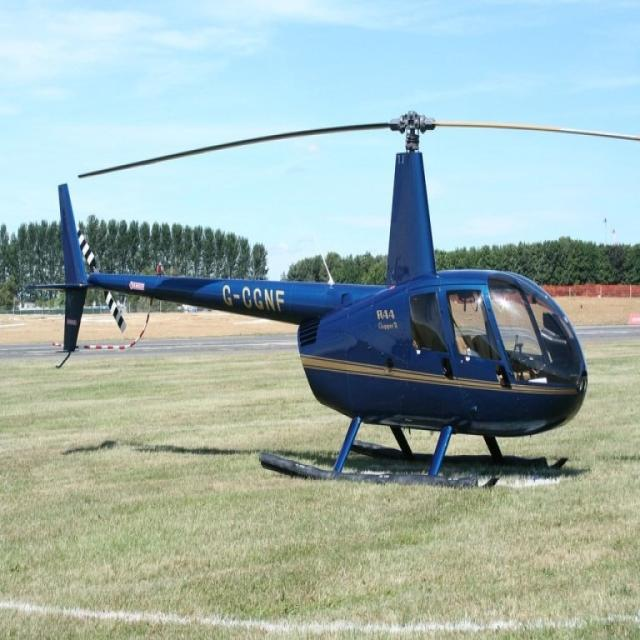CIV_HELO: (32, 109, 590, 509)
